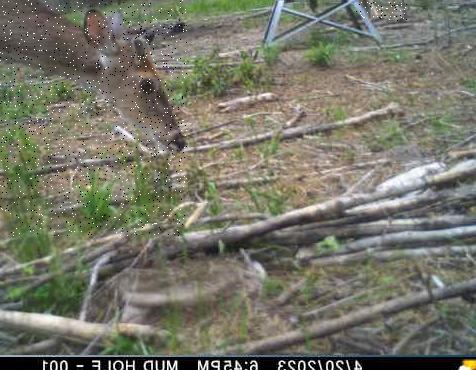Deer: (0, 0, 187, 236), (356, 0, 407, 22)
